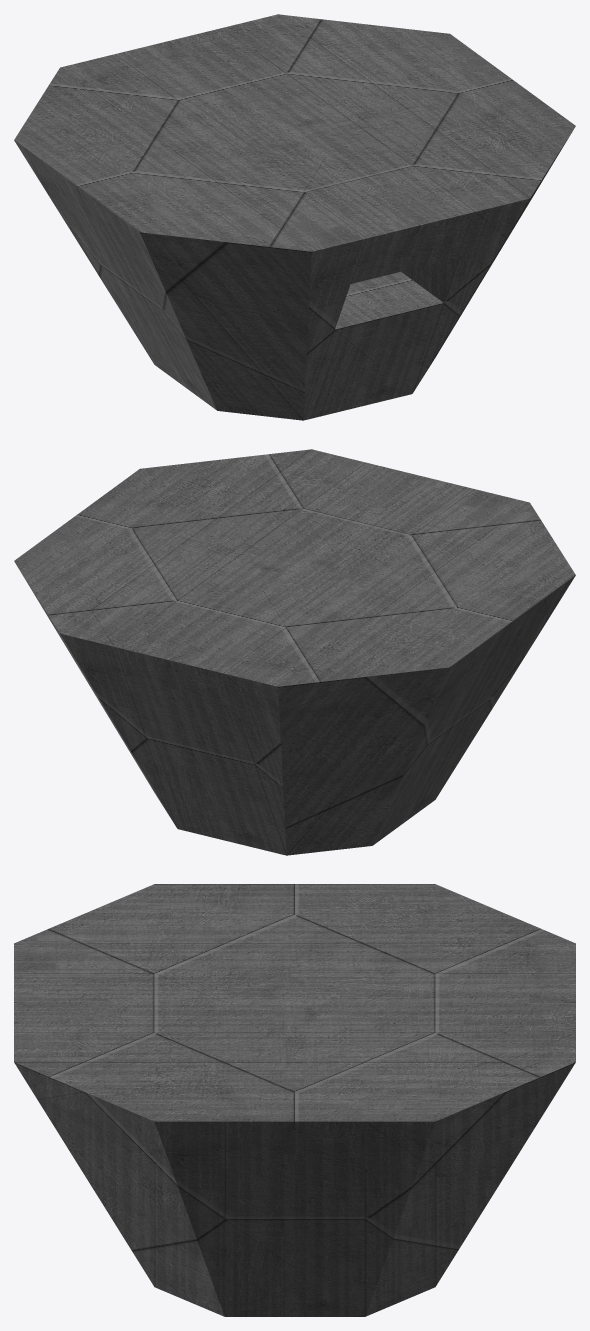
File: Hangar.dae
3 views of the same model, one above another, from view 1: azimuth 30°, elevation 25°; view 2: azimuth 150°, elevation 25°; view 3: azimuth 270°, elevation 25° (orthographic). The views are drawn at different scales.
Parts seen in each view (by area): view 1: user_defined1; view 2: user_defined1; view 3: user_defined1.
Part boxes in pixels (x1,y1,x2,y2): user_defined1: (14, 14, 575, 420); user_defined1: (14, 449, 575, 855); user_defined1: (14, 884, 575, 1316).
Size of the model in its own units: 512 by 256 by 512.
1 material, 1 textured.
